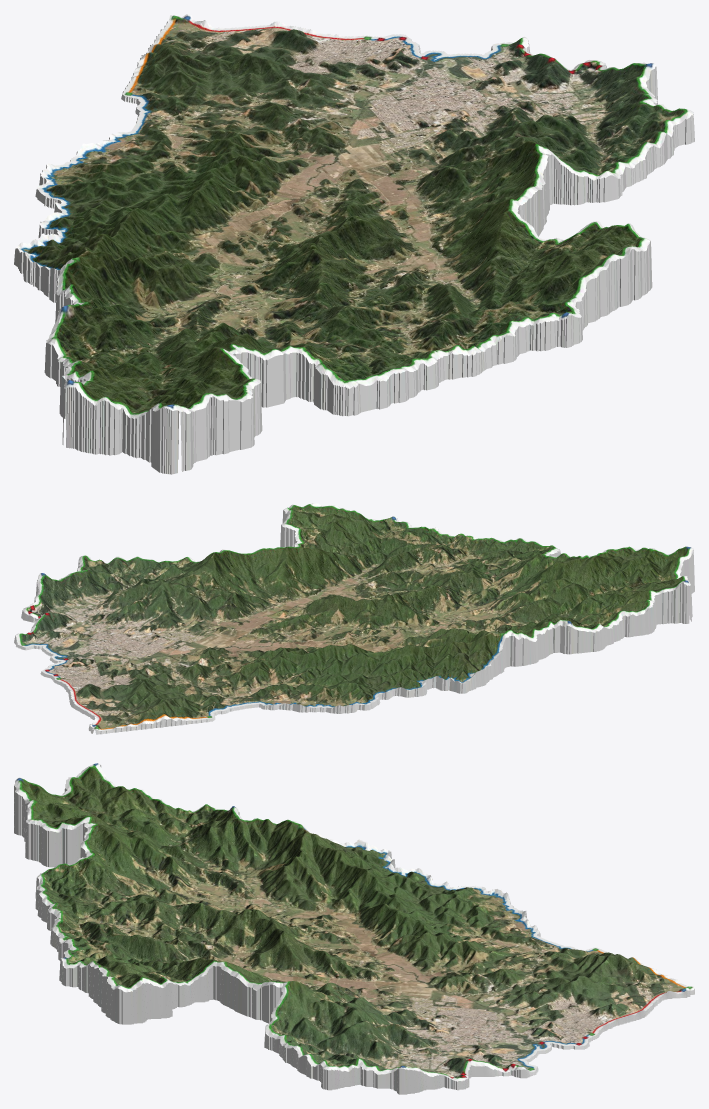
3 views of the same model, one above another, from view 1: azimuth 30°, elevation 25°; view 2: azimuth 150°, elevation 25°; view 3: azimuth 270°, elevation 25° (orthographic). The views are drawn at different scales.
Size of the model in its own units: 1 by 0.0786 by 1.
Materials: 1 (1 with a texture image).
